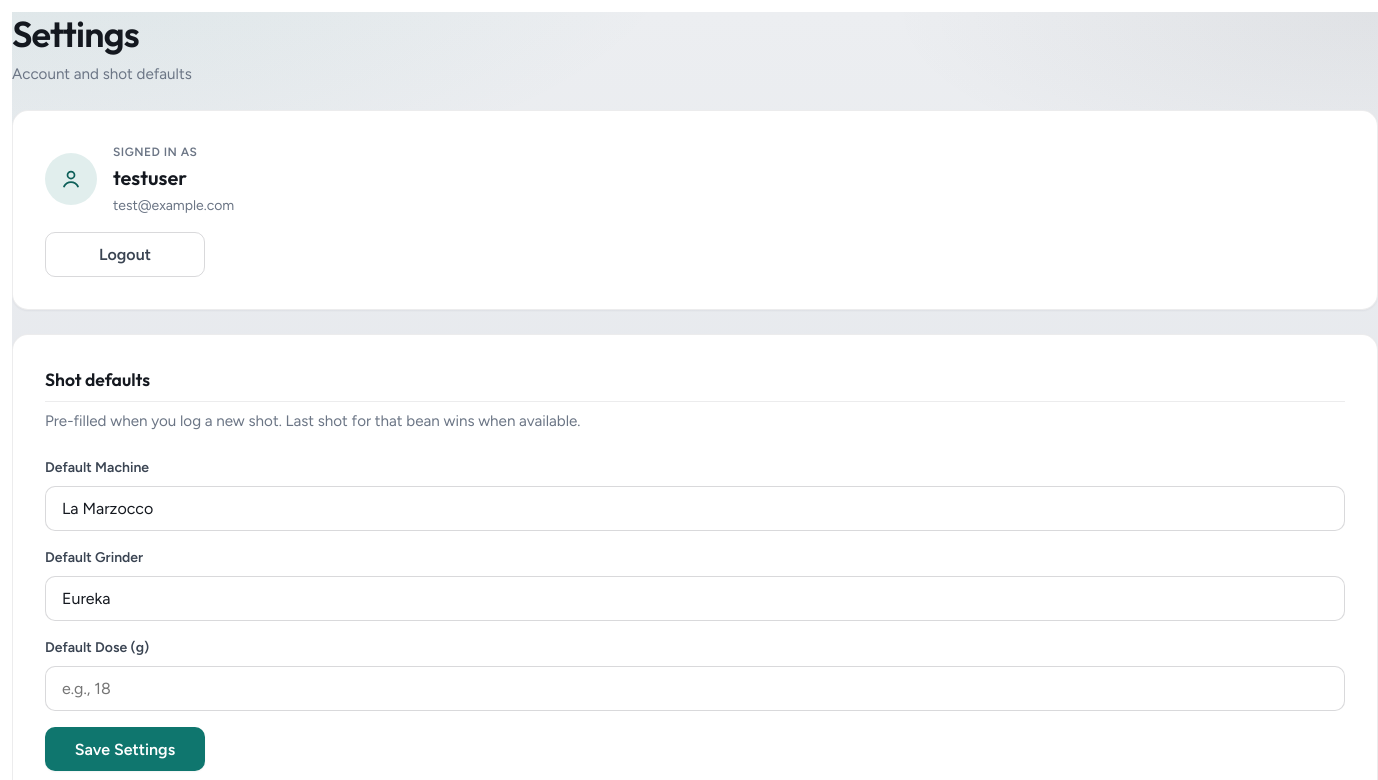
Test: Settings › should show saving state during update
This screenshot has width=1378, height=780.
Expected: the field labelled "Default Machine" holds "La Marzocco", [45, 486, 1345, 531]
Click the button "Save Settings".
click(125, 749)  # box [45, 727, 205, 771]
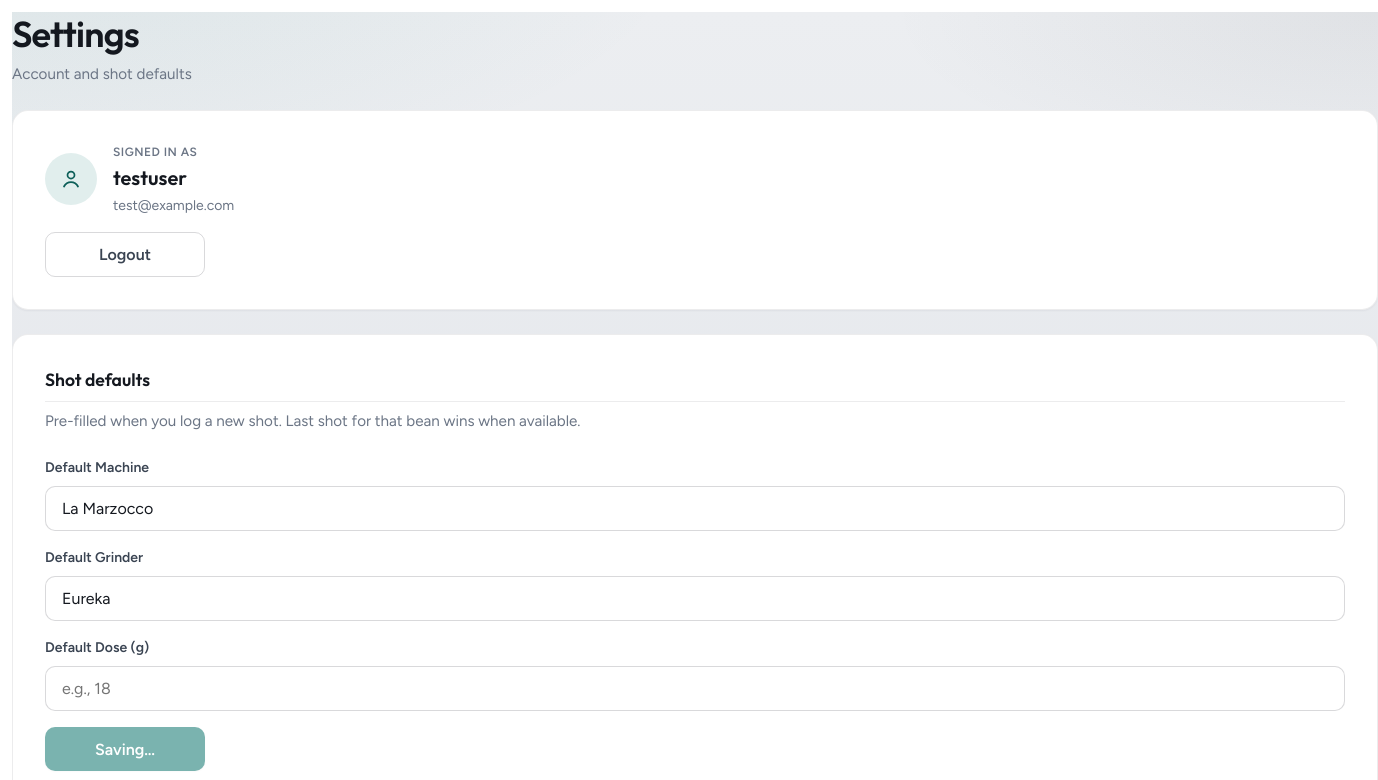
Now the button "Saving…" is disabled, box [45, 727, 205, 771]
